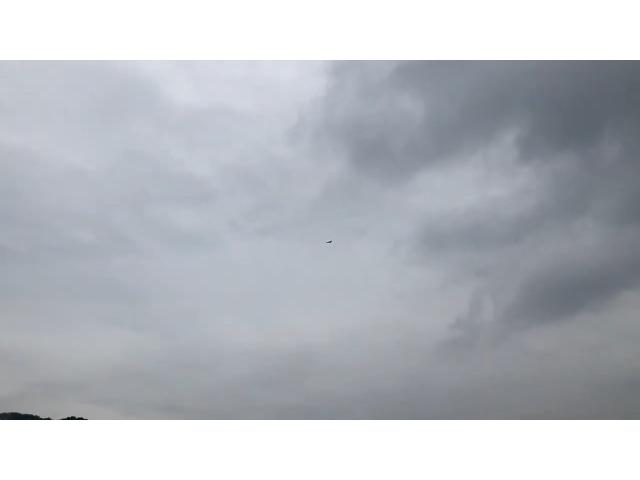Anti-Drone: (318, 236, 342, 251)
